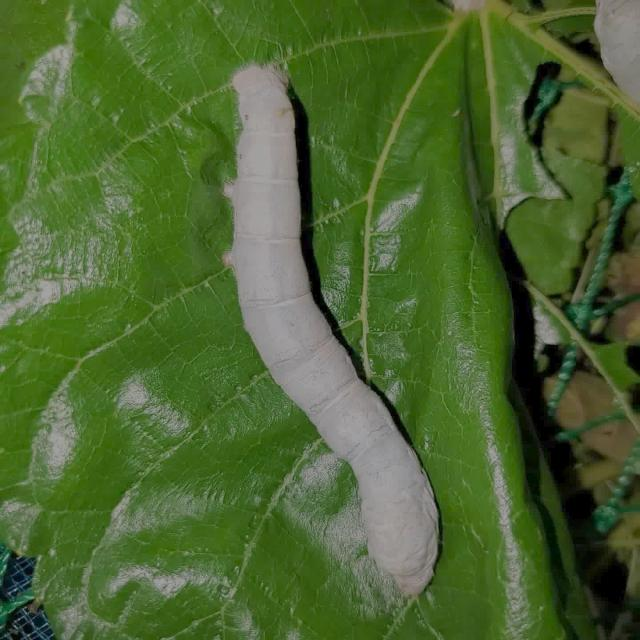Healthy: (208, 58, 454, 600)
